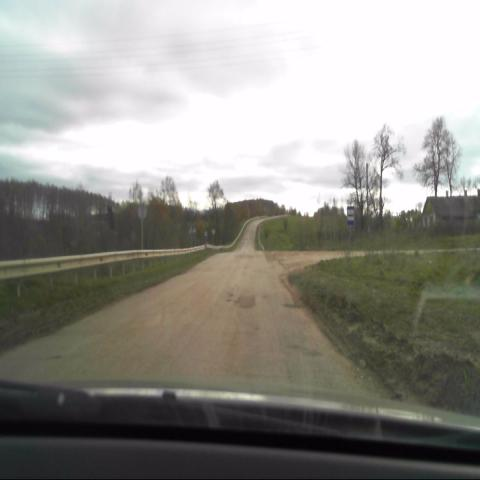5_16: (347, 205, 354, 226)
